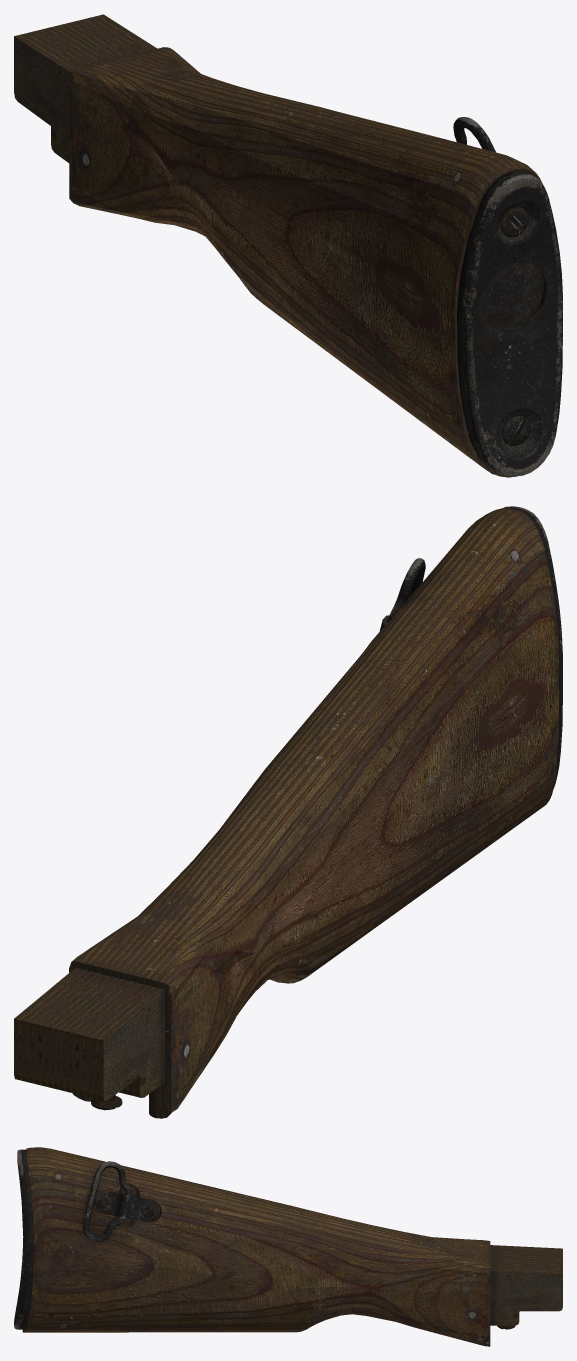
The picture shows the model from 3 angles, top to bottom: view 1: azimuth 30°, elevation 25°; view 2: azimuth 150°, elevation 25°; view 3: azimuth 270°, elevation 25°; orthographic projection. The views are drawn at different scales.
Visible parts, largest first — view 1: TW_59e89d0986f77427600d226e_PZ_Import; view 2: TW_59e89d0986f77427600d226e_PZ_Import; view 3: TW_59e89d0986f77427600d226e_PZ_Import.
Part boxes in pixels (<box>): TW_59e89d0986f77427600d226e_PZ_Import: <box>14,14,562,477</box>; TW_59e89d0986f77427600d226e_PZ_Import: <box>14,506,562,1118</box>; TW_59e89d0986f77427600d226e_PZ_Import: <box>14,1147,562,1346</box>.
Bounding box in the file's own units: 0.0231 × 0.1568 × 0.0585.
1 material, 1 textured.
